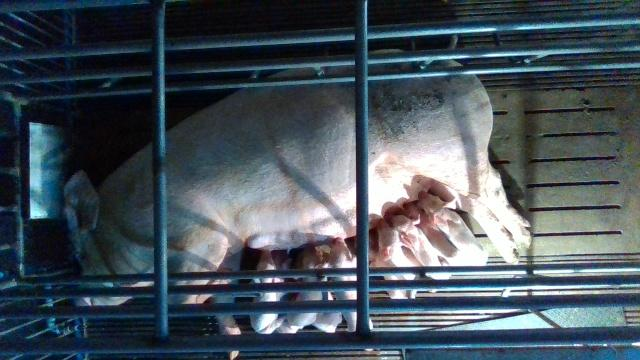piglet: (419, 191, 488, 265), (324, 237, 373, 332), (390, 215, 452, 279), (404, 202, 464, 265), (251, 251, 286, 334), (286, 247, 320, 330), (379, 220, 416, 280)
sow-sleep-lactate: (62, 47, 533, 305)
